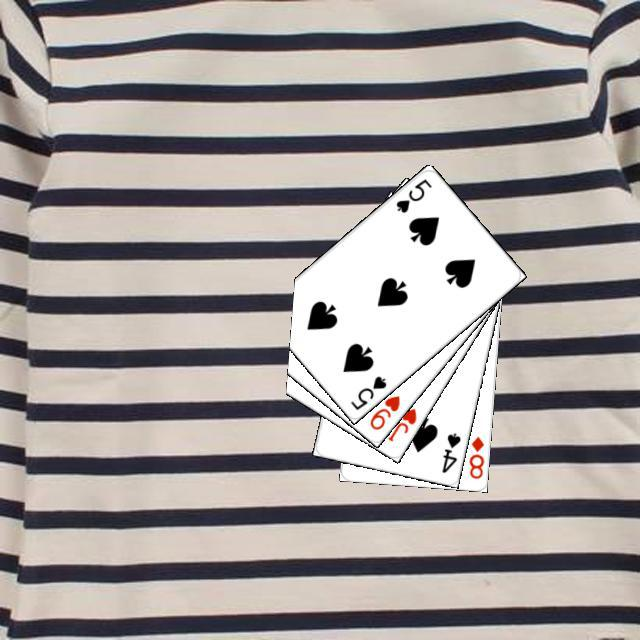4s: (437, 428, 462, 475)
5s: (345, 371, 388, 412), (391, 174, 433, 215)
8d: (464, 432, 486, 480)
9h: (365, 390, 402, 432)
Jh: (383, 403, 418, 443)
